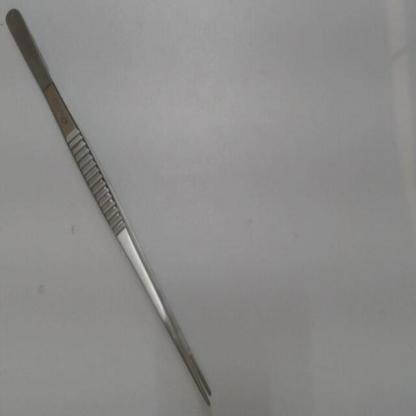DeBakey Dissector: (2, 2, 233, 411)
